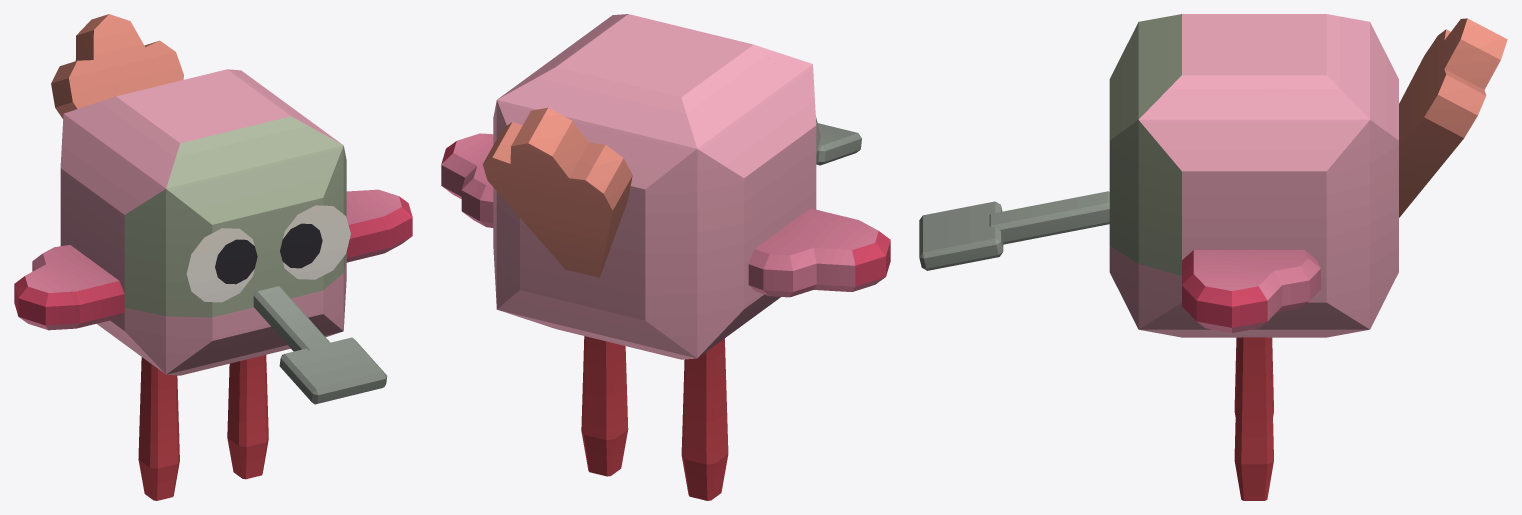
Rendered from colhereiro.glb.
3 renders of one model, left to right at view 1: azimuth 30°, elevation 25°; view 2: azimuth 150°, elevation 25°; view 3: azimuth 270°, elevation 25°, orthographic. The views are drawn at different scales.
Parts seen in each view (by area): view 1: head, body, tail, wing-right, leg-front-right, leg-front-left, wing-left; view 2: body, tail, wing-right, leg-front-right, leg-front-left, wing-left, head; view 3: body, head, tail, wing-left, leg-front-left.
Part boxes in pixels (<box>): head: <box>124,116,387,404</box>; body: <box>60,69,323,359</box>; tail: <box>51,14,183,119</box>; wing-right: <box>14,245,124,330</box>; leg-front-right: <box>138,357,179,500</box>; leg-front-left: <box>227,355,268,479</box>; wing-left: <box>346,189,412,262</box>; body: <box>493,14,816,359</box>; tail: <box>482,107,632,277</box>; wing-right: <box>748,208,890,297</box>; leg-front-right: <box>681,338,728,500</box>; leg-front-left: <box>581,336,628,476</box>; wing-left: <box>441,133,493,227</box>; head: <box>591,14,861,165</box>; body: <box>1182,14,1398,337</box>; head: <box>919,14,1181,337</box>; tail: <box>1399,18,1507,217</box>; wing-left: <box>1182,250,1320,332</box>; leg-front-left: <box>1234,337,1273,500</box>.
Bounding box in the file's own units: 2.2 × 2.16 × 2.54.
Materials: 1 (1 with a texture image).
